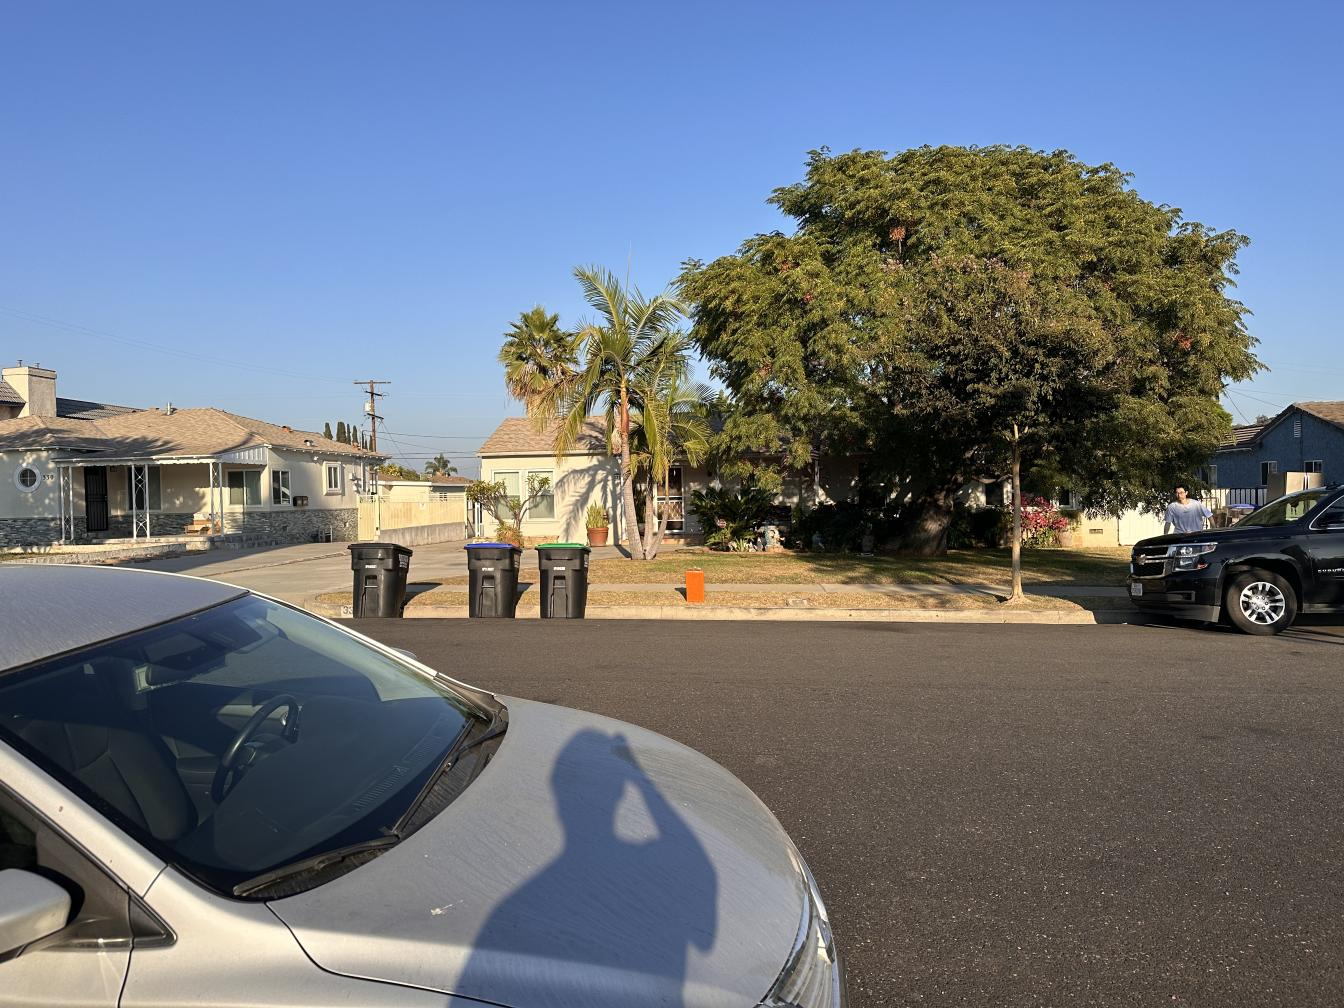curbs-laRr: (607, 601, 859, 626), (864, 607, 1134, 628)
orange box: (686, 568, 706, 601)
